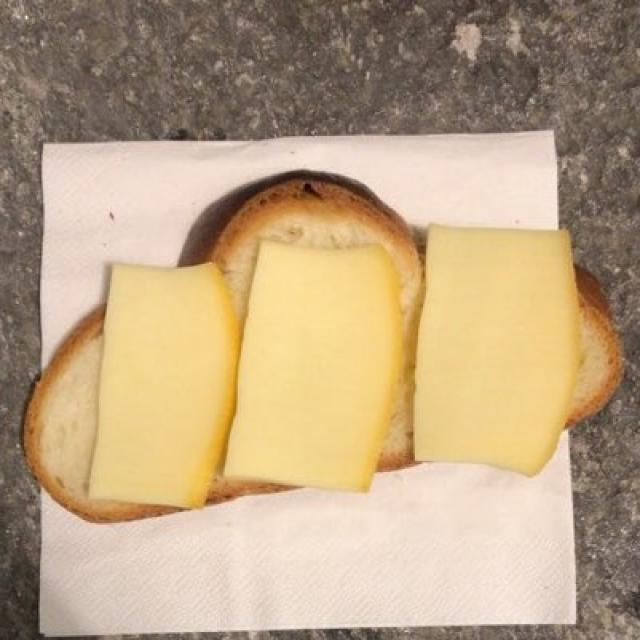bread: (32, 172, 631, 523)
cheese: (93, 226, 575, 506)
